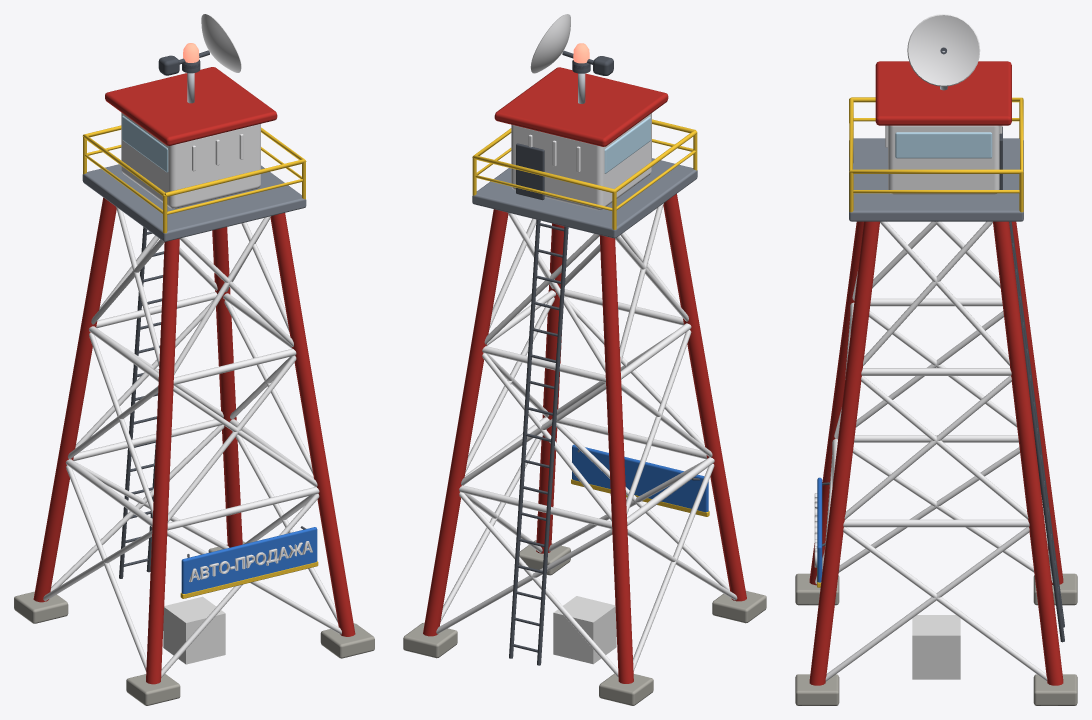
The model's file is HarvestTower.fbx.
The picture shows the model from 3 angles, left to right: view 1: azimuth 30°, elevation 25°; view 2: azimuth 150°, elevation 25°; view 3: azimuth 270°, elevation 25°; orthographic projection. The views are drawn at different scales.
Visible parts, largest first — view 1: Body__White.002, Body__RedMetal, Body__Steel.001, Body__Blue, Body__Yellow.001, Body__Concrete, Origin__Pivot.004, Body__MetalDark.003, Radar__White@spin_y_90#0,13.55,-0.15, Body__Glass, Radar__MetalDark@spin_y_90#0,13.55,-0.15; view 2: Body__White.002, Body__RedMetal, Body__MetalDark.003, Body__Steel.001, Body__Concrete, Body__Yellow.001, Origin__Pivot.004, Body__Blue, Radar__White@spin_y_90#0,13.55,-0.15, Body__Glass, Radar__MetalDark@spin_y_90#0,13.55,-0.15; view 3: Body__RedMetal, Body__White.002, Body__Steel.001, Radar__White@spin_y_90#0,13.55,-0.15, Body__Concrete, Origin__Pivot.004, Body__Yellow.001, Body__MetalDark.003, Body__Glass, Body__Blue.
Part boxes in pixels (box(x1,y1,x2,y2)): Body__White.002: box(43, 112, 341, 677); Body__RedMetal: box(33, 67, 355, 684); Body__Steel.001: box(82, 164, 306, 241); Body__Blue: box(181, 527, 317, 593); Body__Yellow.001: box(82, 125, 318, 598); Body__Concrete: box(14, 541, 374, 705); Origin__Pivot.004: box(163, 596, 225, 664); Body__MetalDark.003: box(119, 62, 306, 578); Radar__White@spin_y_90#0,13.55,-0.15: box(201, 14, 241, 72); Body__Glass: box(122, 115, 168, 172); Radar__MetalDark@spin_y_90#0,13.55,-0.15: box(158, 50, 209, 75); Body__White.002: box(436, 113, 737, 677); Body__RedMetal: box(423, 67, 746, 683); Body__MetalDark.003: box(509, 63, 699, 665); Body__Steel.001: box(472, 158, 697, 238); Body__Concrete: box(403, 540, 766, 705); Body__Yellow.001: box(472, 119, 709, 516); Origin__Pivot.004: box(553, 596, 616, 664); Body__Blue: box(572, 444, 708, 512); Radar__White@spin_y_90#0,13.55,-0.15: box(530, 14, 570, 73); Body__Glass: box(604, 116, 650, 173); Radar__MetalDark@spin_y_90#0,13.55,-0.15: box(562, 50, 613, 75); Body__RedMetal: box(809, 61, 1063, 685); Body__White.002: box(814, 125, 1052, 681); Body__Steel.001: box(849, 138, 1023, 221); Radar__White@spin_y_90#0,13.55,-0.15: box(907, 14, 980, 86); Body__Concrete: box(795, 573, 1077, 705); Origin__Pivot.004: box(912, 615, 960, 679); Body__Yellow.001: box(817, 97, 1023, 587); Body__MetalDark.003: box(822, 126, 1064, 642); Body__Glass: box(895, 132, 992, 158); Body__Blue: box(817, 477, 822, 582).
Bounding box in the file's own units: 580 × 1510 × 580.
